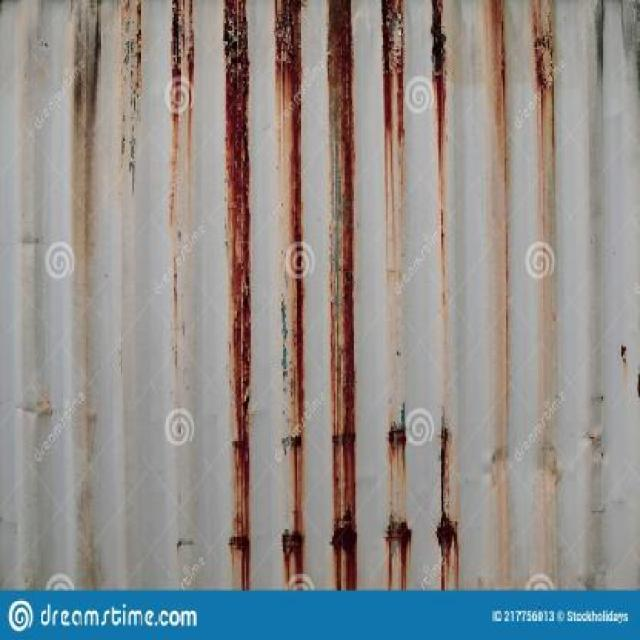Minor-Dent: (477, 439, 512, 485), (582, 419, 611, 473), (530, 448, 566, 489)
Rust: (273, 0, 306, 592), (327, 0, 358, 592), (223, 0, 251, 591), (119, 0, 145, 200), (434, 423, 460, 591), (381, 0, 404, 175), (168, 0, 195, 123), (429, 0, 449, 155), (382, 509, 413, 591), (531, 11, 554, 109), (386, 403, 408, 471)
